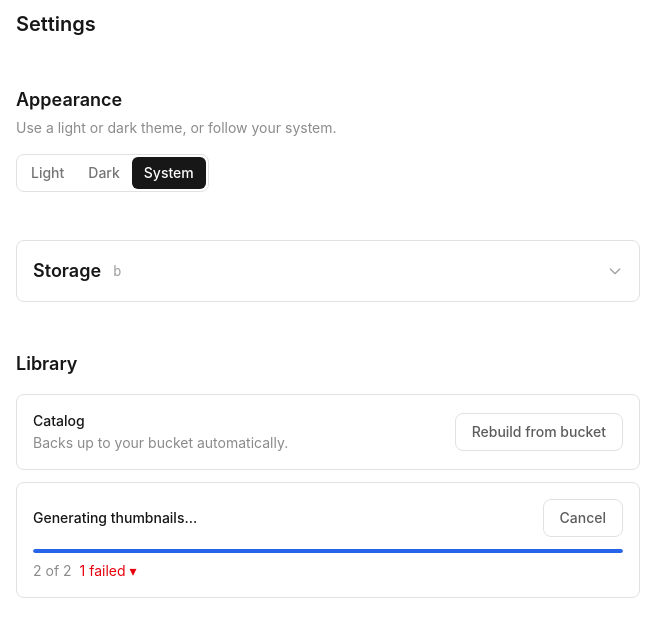
Settings library refresh › lists a repeated failure event only once
Expected: the heading "Library" is shown, [16,353,78,374]
Click the button with test id "toggle-failures" at (108, 571), box [80,561,136,581]
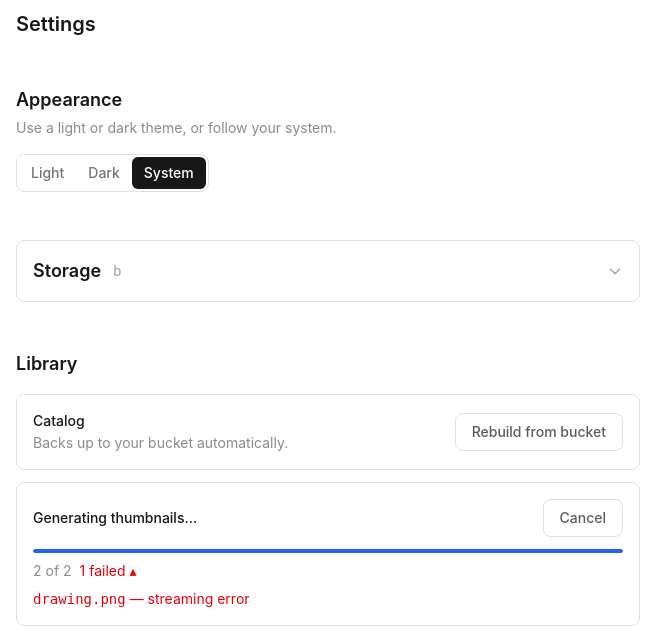
Now the text "drawing.png" is shown once, box [33,591,126,607]
